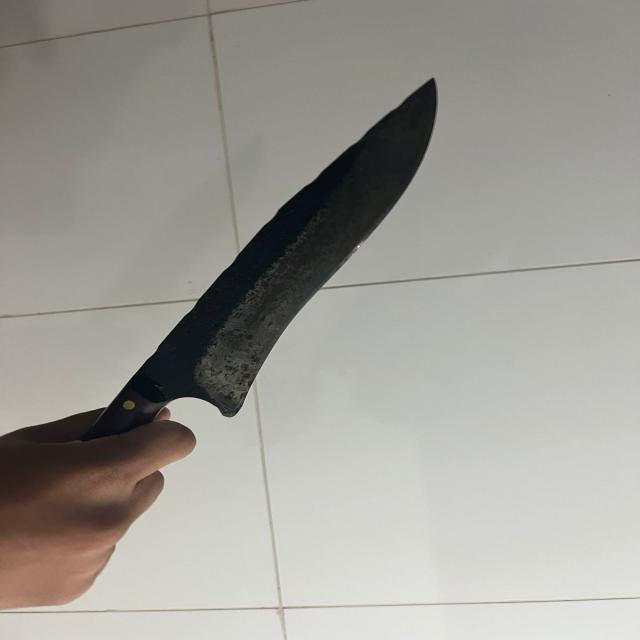knife: (149, 80, 439, 398)
